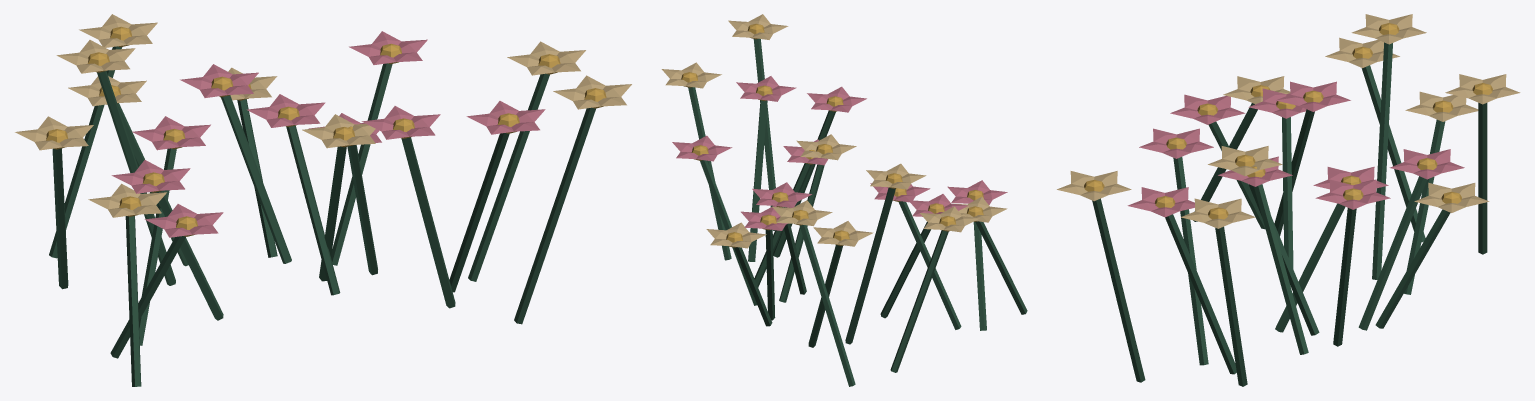
The model's file is nature-flowers.lod0.glb.
3 views of the same model, side by side, from view 1: azimuth 30°, elevation 25°; view 2: azimuth 150°, elevation 25°; view 3: azimuth 270°, elevation 25° (orthographic). The views are drawn at different scales.
Visible parts, largest first — view 1: nature-flowers__body; view 2: nature-flowers__body; view 3: nature-flowers__body.
Boxes of the visible parts, x1=… form: nature-flowers__body: x1=15, y1=14, x2=631, y2=386; nature-flowers__body: x1=661, y1=14, x2=1027, y2=386; nature-flowers__body: x1=1057, y1=14, x2=1520, y2=386.
Size of the model in its own units: 1.43 by 0.6883 by 1.28.
